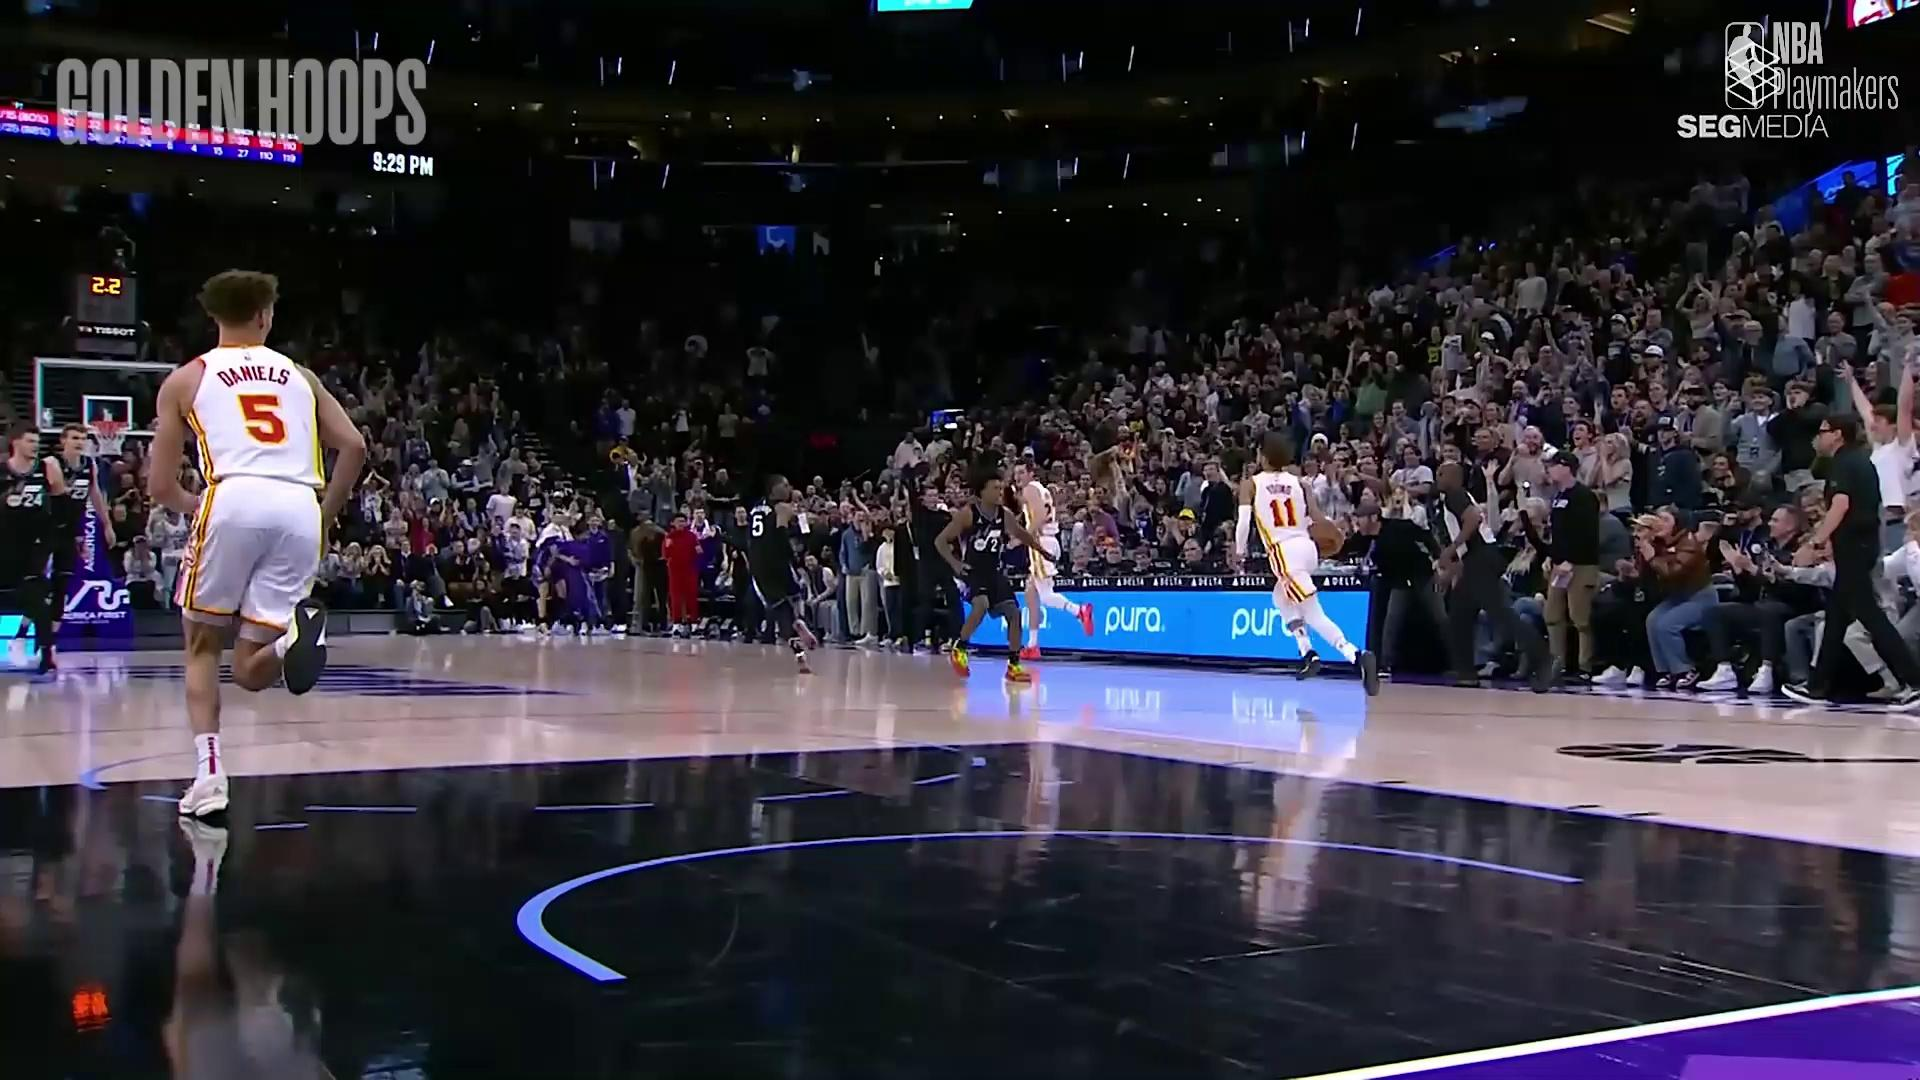ball: (1313, 521, 1352, 555)
hoop: (92, 417, 133, 459)
